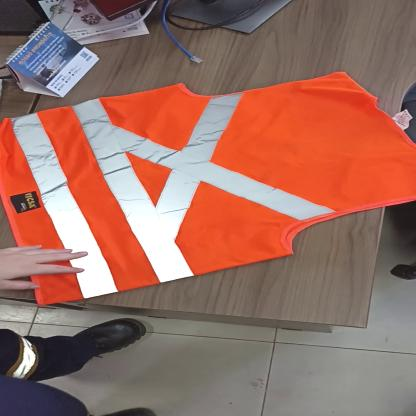colete: (3, 69, 416, 306)
